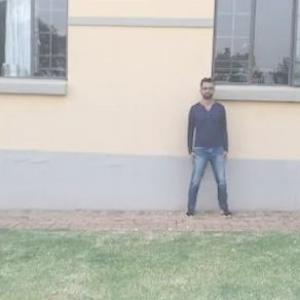follow: (189, 74, 231, 218)
